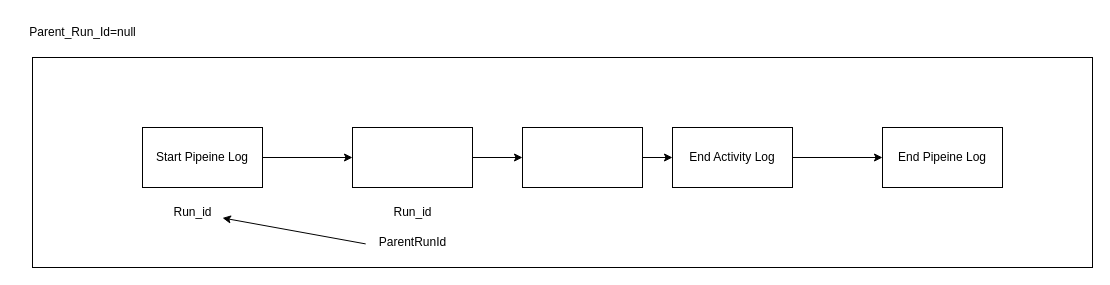
Image size: 1110x285. Some labels were removed from this diagram. The box of each missing label's shape, as (x1, y1, x2, y2) in pixels:
Activity: (522, 126, 642, 188)
Start Activty Log: (352, 126, 472, 188)
